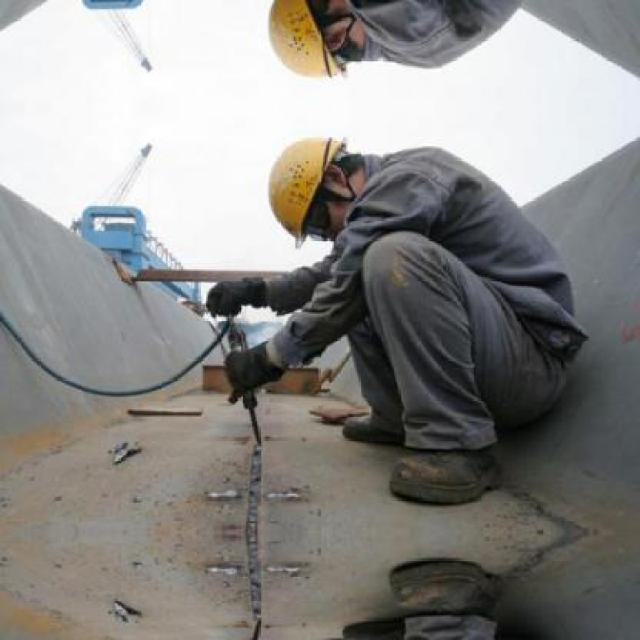helmet: (253, 124, 365, 244), (252, 0, 366, 89)
